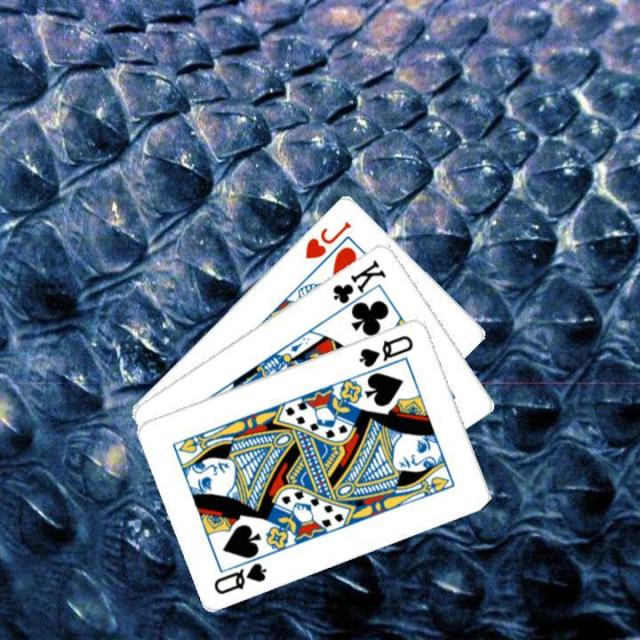JH: (301, 217, 354, 260)
KC: (329, 255, 388, 316)
QS: (355, 331, 415, 369), (210, 558, 269, 596)
